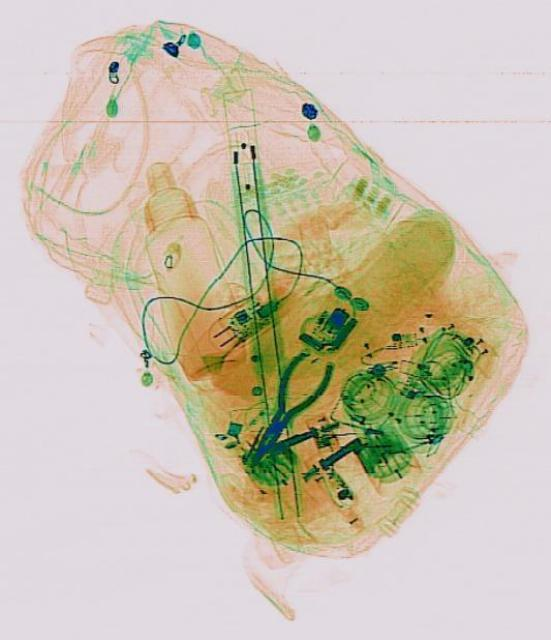Pliers: (230, 342, 337, 476)
